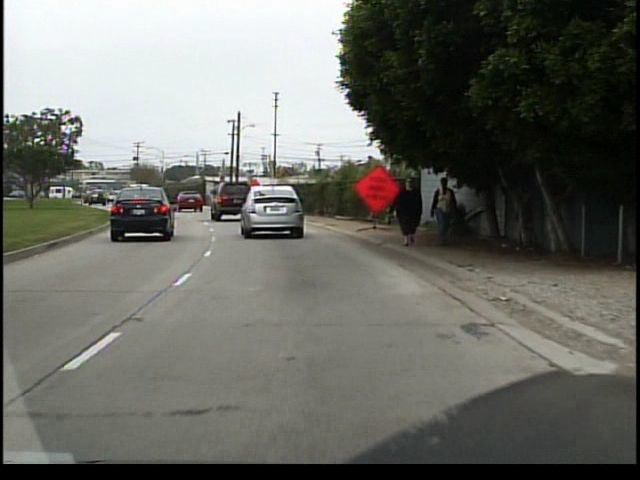person: (385, 172, 425, 253), (427, 176, 458, 249)
